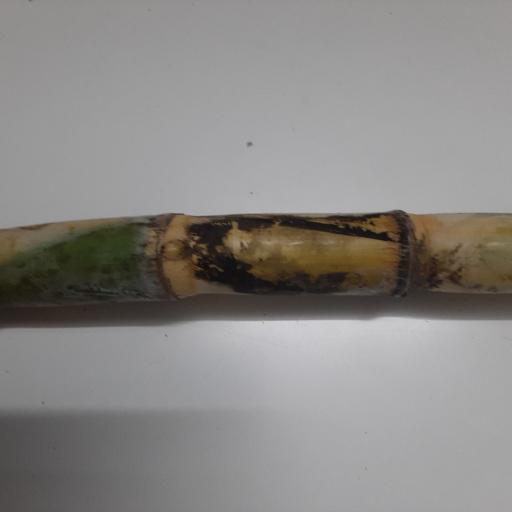Bud: (158, 239, 191, 261)
